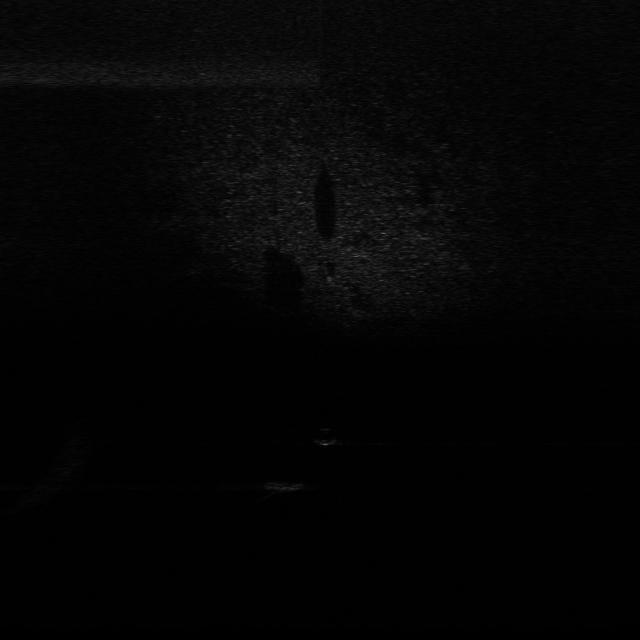ball: (309, 426, 342, 447)
square cage: (262, 478, 309, 494)
